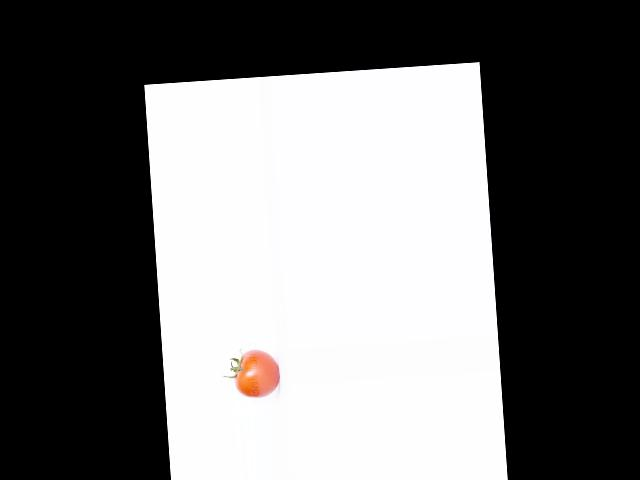tomato: (232, 348, 280, 399)
